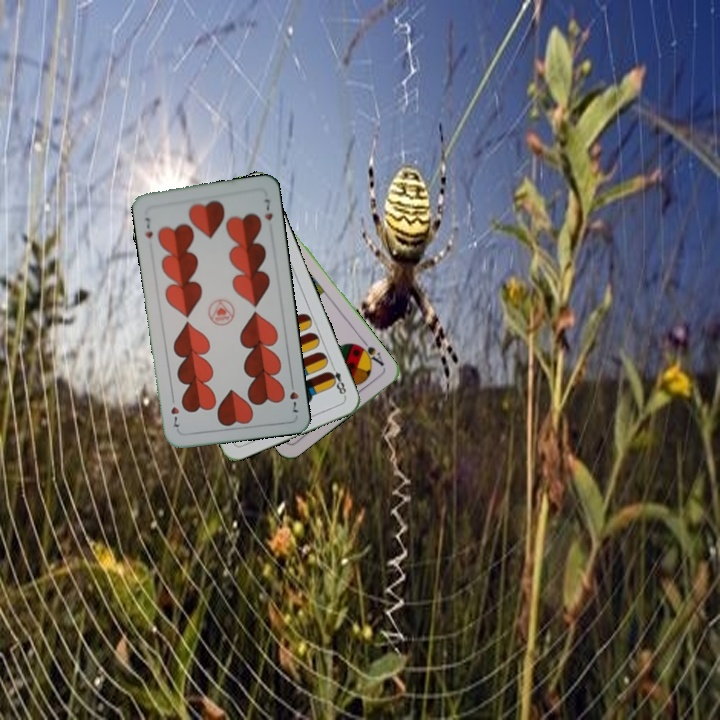E8: (324, 360, 349, 399)
H7: (286, 376, 301, 415), (141, 213, 155, 241)
SA: (353, 336, 387, 369)
